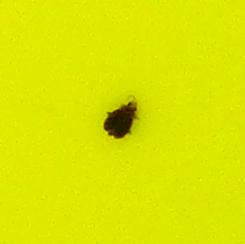Coleoptera: (100, 100, 145, 144)
